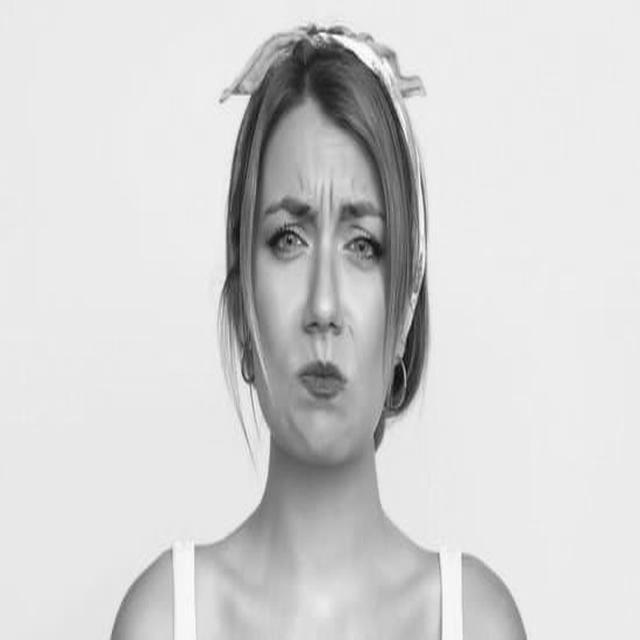Sadness: (247, 112, 398, 468)
